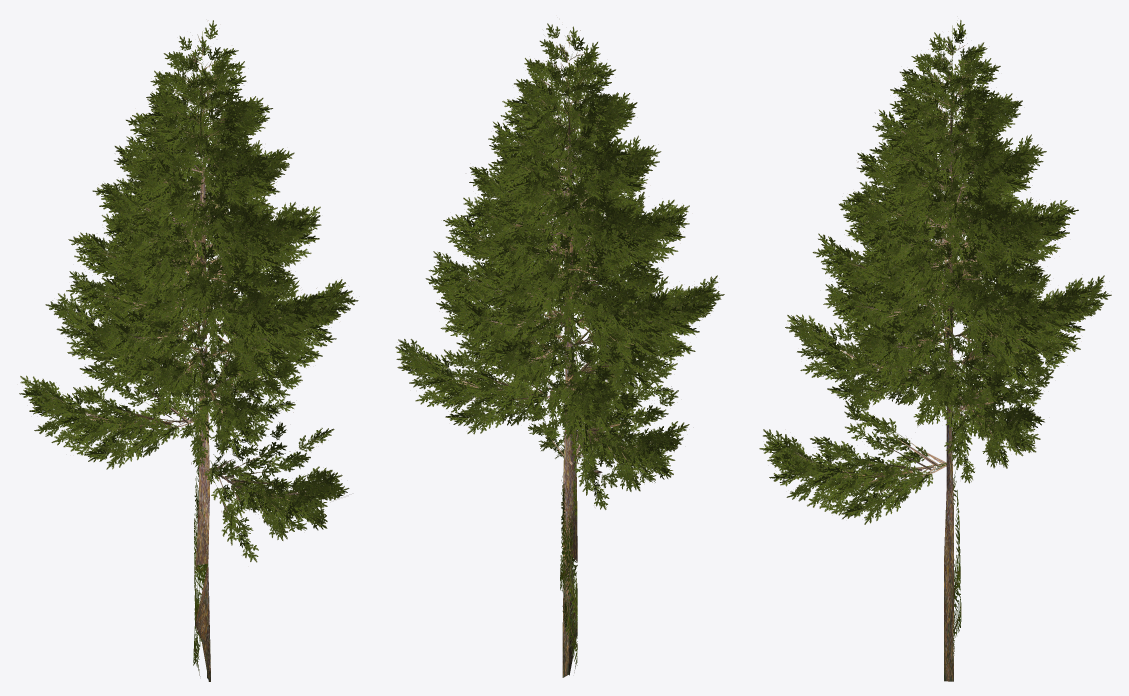
The model's file is pine.obj.
3 renders of one model, left to right at view 1: azimuth 30°, elevation 25°; view 2: azimuth 150°, elevation 25°; view 3: azimuth 270°, elevation 25°, orthographic.
Visible parts, largest first — view 1: Scene; view 2: Scene; view 3: Scene.
Part boxes in pixels (bbox=[...]): Scene: bbox=[19, 20, 358, 681]; Scene: bbox=[395, 23, 724, 677]; Scene: bbox=[759, 20, 1111, 681].
Size of the model in its own units: 7.27 by 15.52 by 7.56.
Materials: 1 (1 with a texture image).
